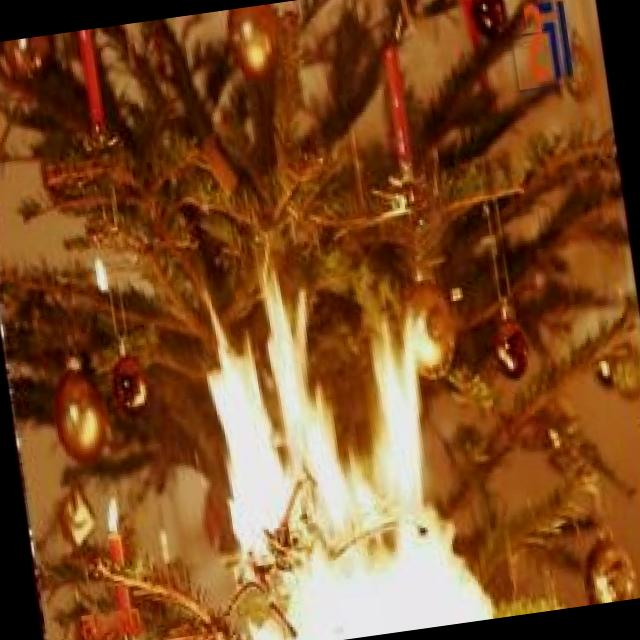fire: (150, 262, 496, 640)
